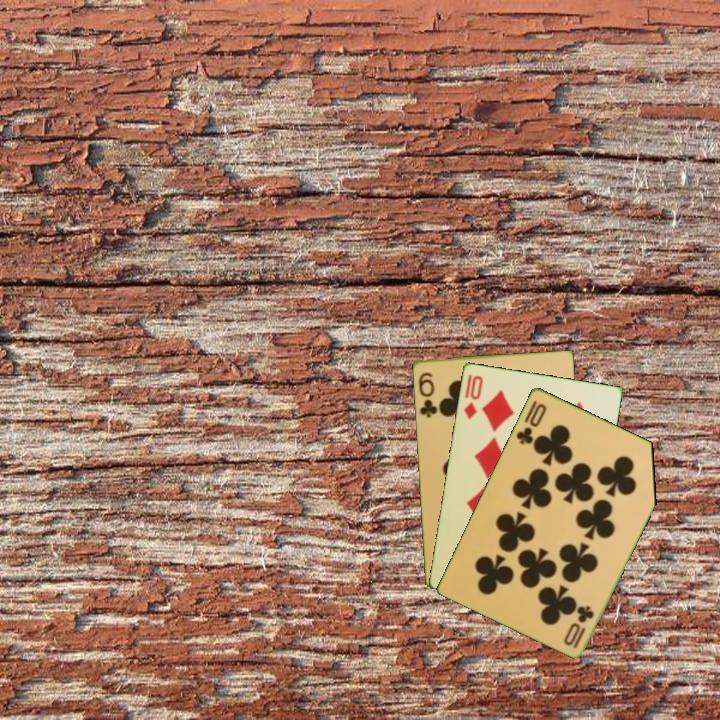10c: (560, 601, 597, 651), (512, 399, 549, 447)
10d: (460, 371, 486, 422)
6c: (415, 369, 440, 420)
